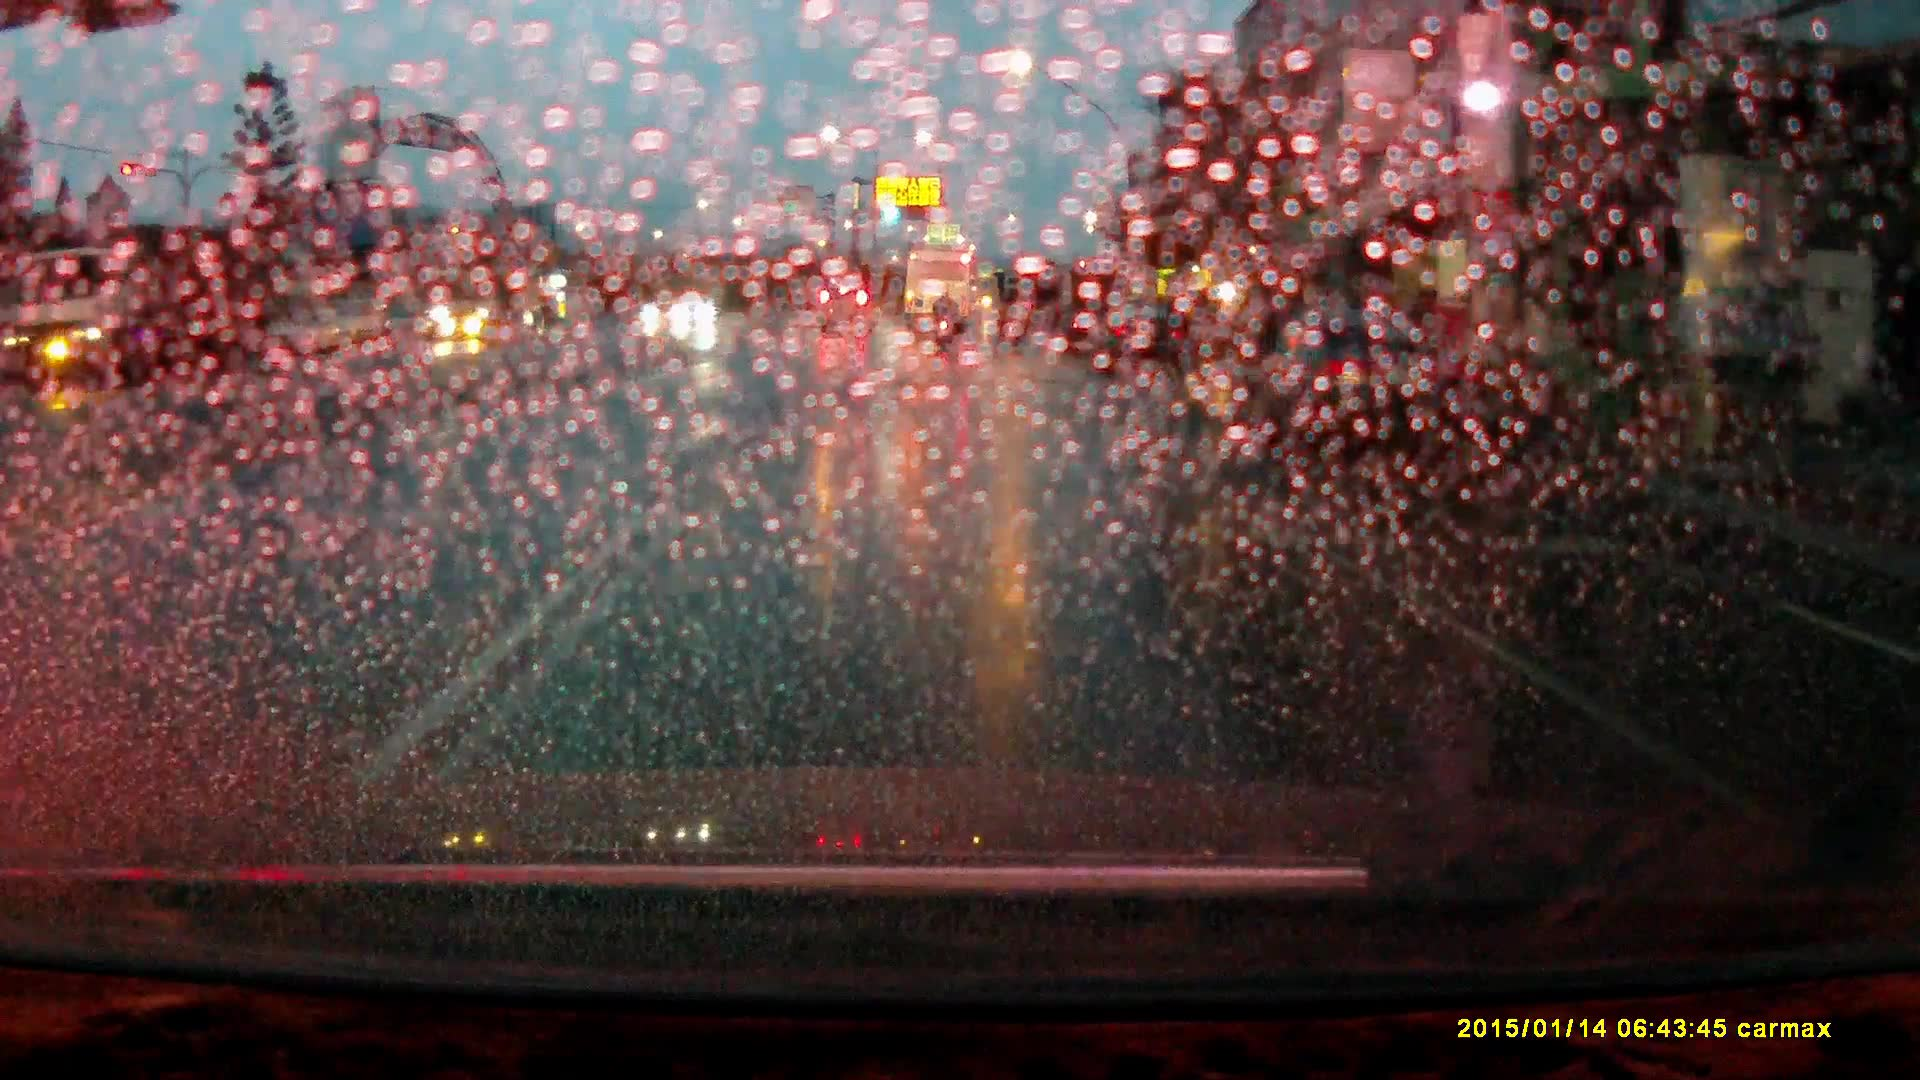rider: (933, 288, 958, 351)
vehicle: (5, 243, 241, 395), (1258, 314, 1479, 460), (432, 265, 552, 341), (1095, 307, 1186, 378), (906, 247, 975, 334), (816, 286, 879, 336), (669, 293, 718, 325)
